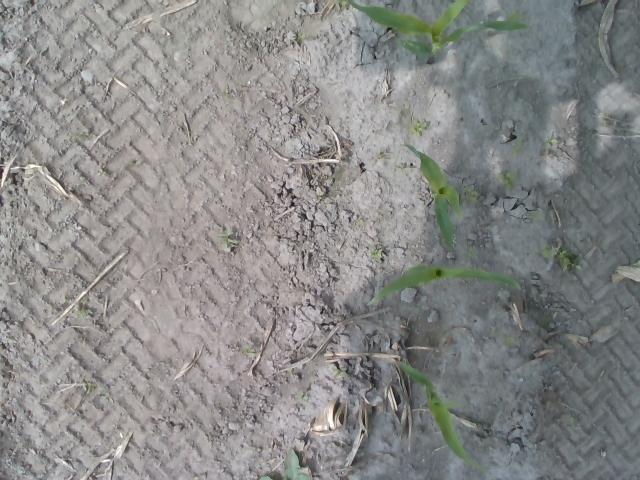Maize: (342, 1, 530, 66), (391, 360, 486, 468), (368, 259, 522, 307), (401, 140, 462, 250)
Weeds: (258, 450, 310, 480), (545, 242, 582, 274), (220, 231, 238, 249), (496, 172, 514, 186), (76, 308, 94, 320), (466, 190, 480, 204), (411, 120, 424, 134), (544, 134, 557, 148), (371, 250, 384, 262), (242, 346, 256, 356), (334, 366, 348, 376), (297, 391, 309, 401)
